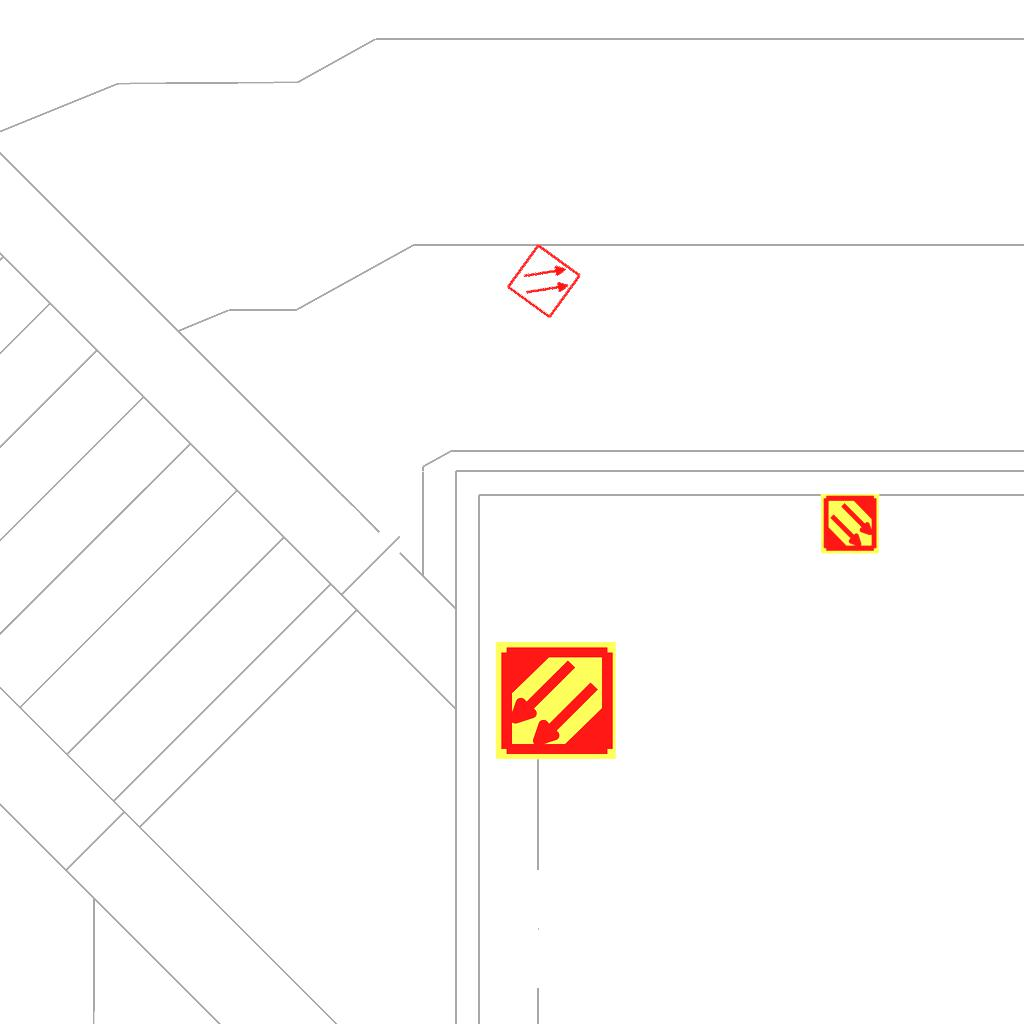ASR_Ansaugrauchmelder: (493, 638, 618, 763), (819, 493, 881, 555)
RMO_Rauchmelder_optischer: (504, 241, 584, 321)
